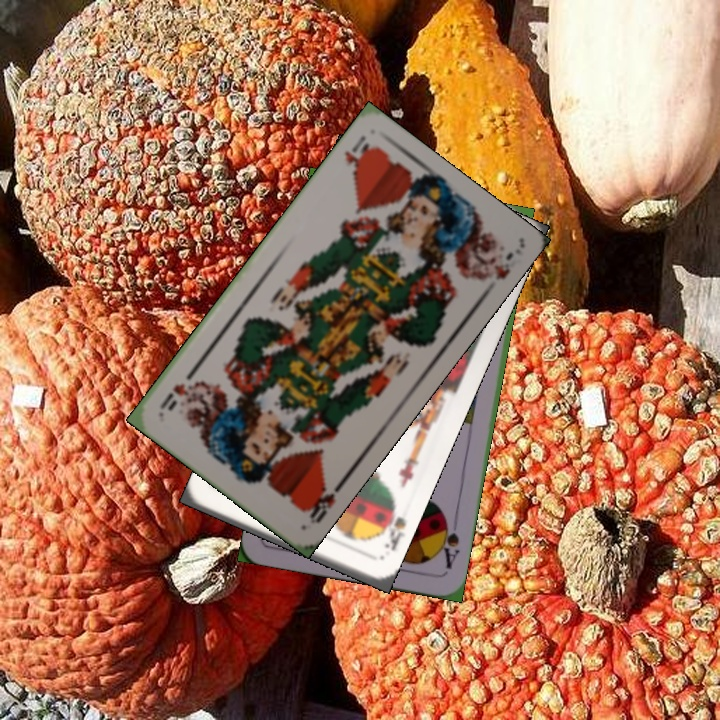HO: (299, 477, 347, 527), (340, 131, 377, 177)
SA: (434, 513, 463, 572)
SK: (374, 502, 409, 554)
